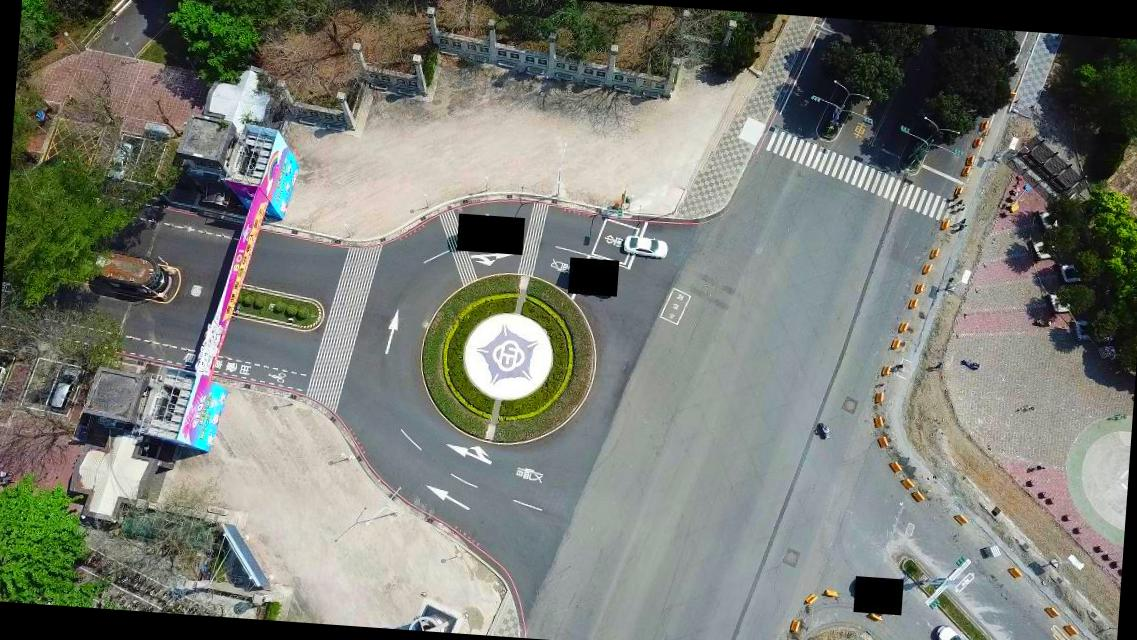vehicle: (50, 365, 82, 414), (622, 234, 668, 260), (106, 140, 134, 182), (929, 623, 982, 639), (0, 353, 11, 401)
